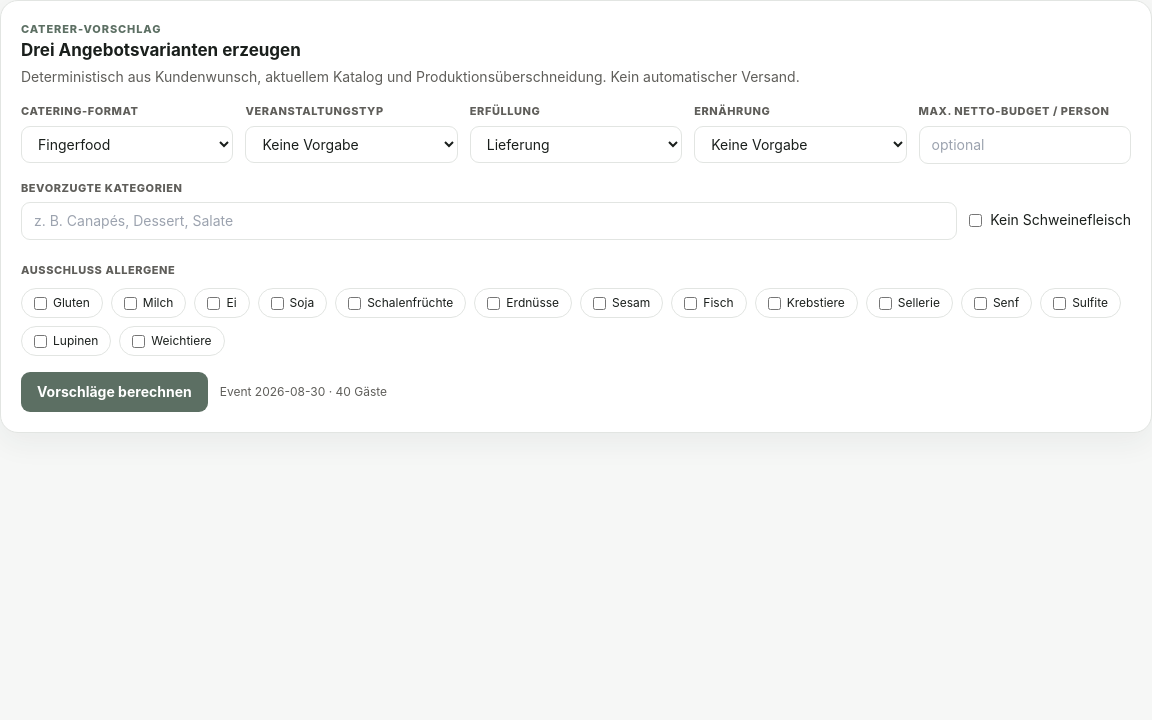
Scenario: RecommendationPanel variant apply › does not expose internal scoring or assembly explanations in Office UI
What coordinates should you click on to do the following:
click the button "Vorschläge berechnen"
I would click on:
 (114, 392)
Its box is x1=21 y1=372 x2=208 y2=412.
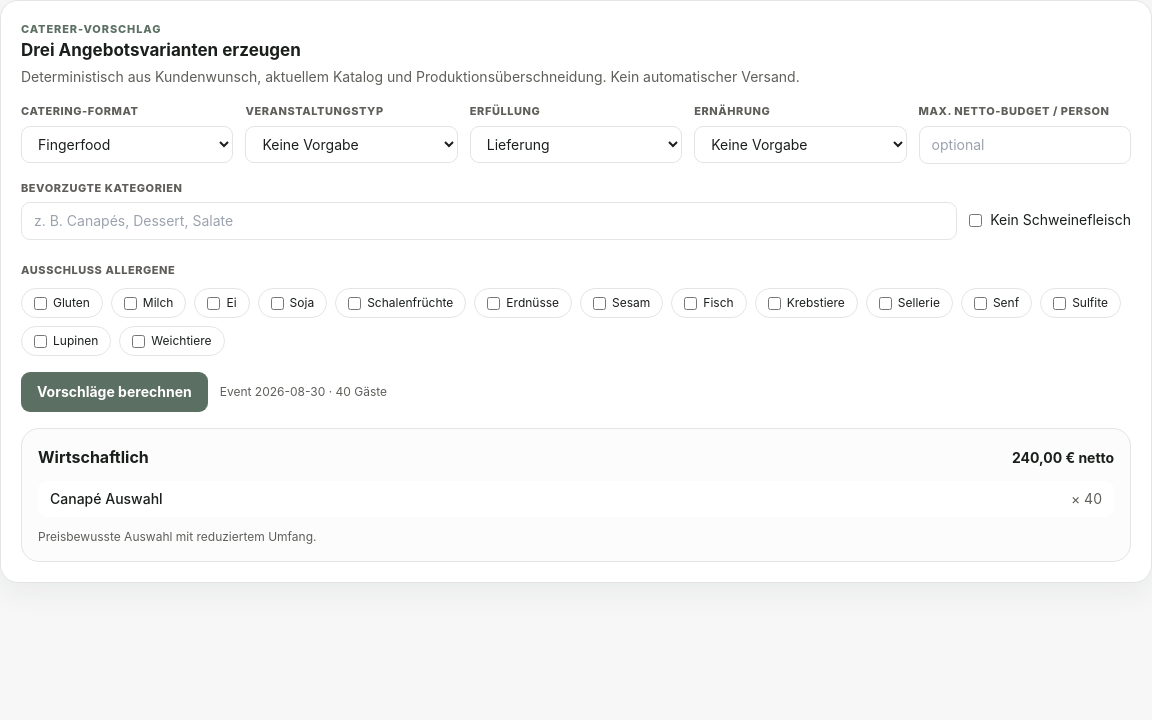
Expected: the text "Preisbewusste Auswahl mit reduziertem Umfang." is shown, x1=38 y1=529 x2=316 y2=544
